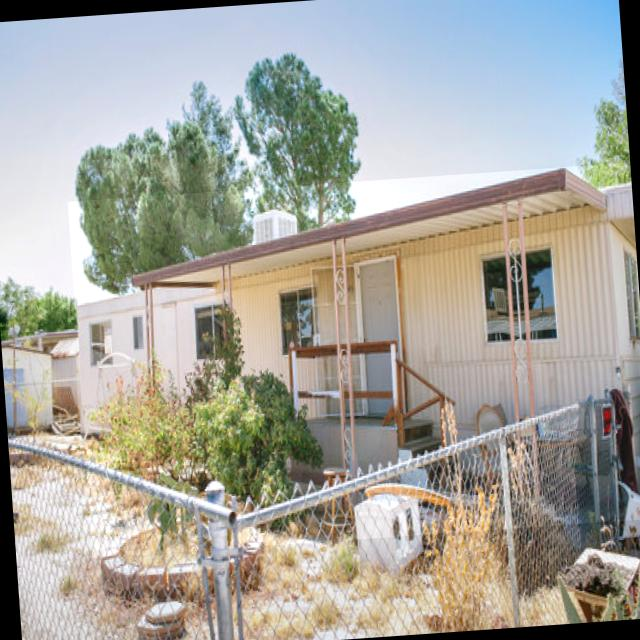House: (67, 161, 640, 557)
